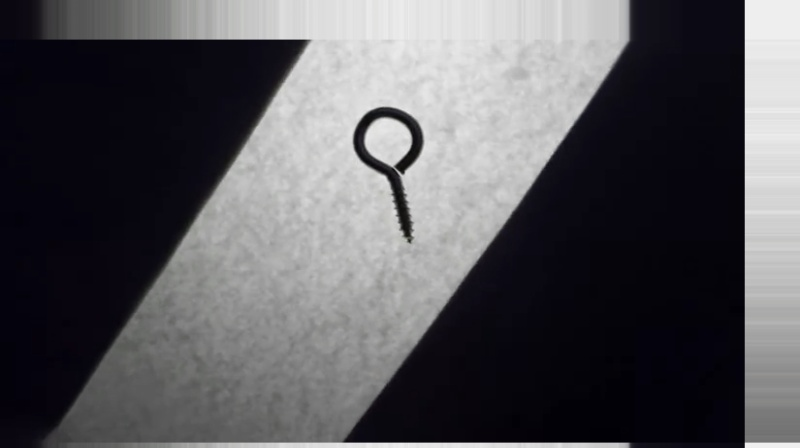O001: (349, 103, 428, 246)
